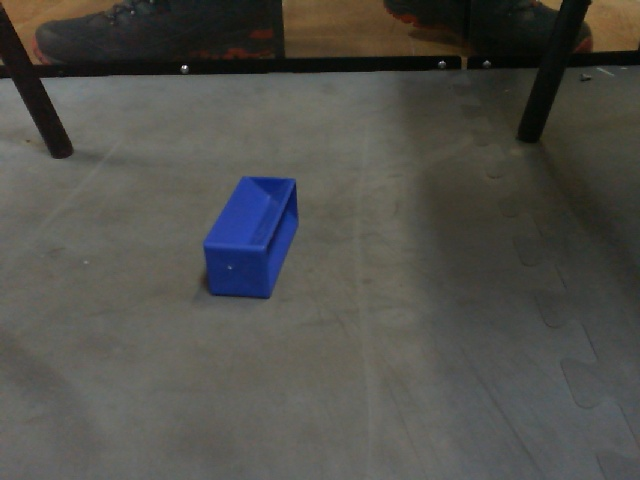BlueSample: (201, 172, 305, 311)
